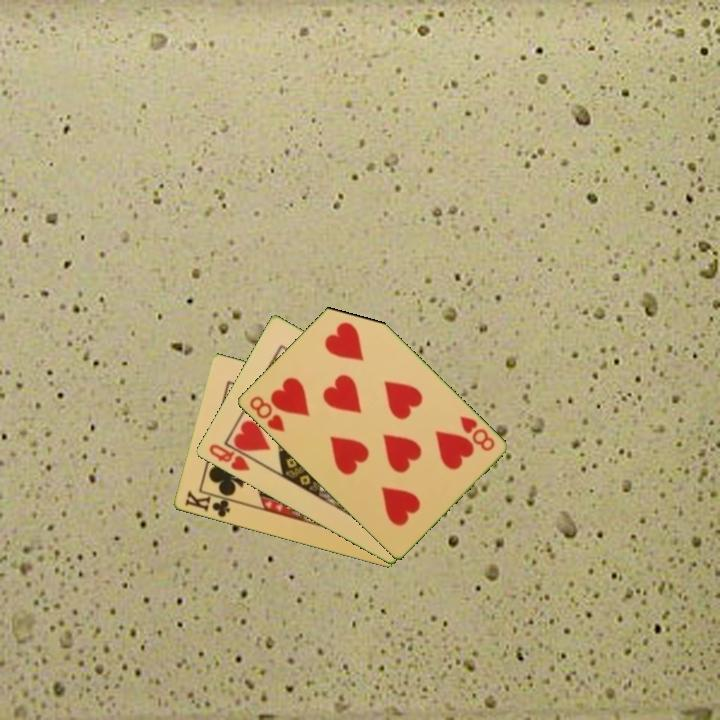8h: (245, 393, 288, 435), (456, 412, 497, 454)
Kc: (181, 487, 237, 520)
Qh: (205, 440, 259, 474)
